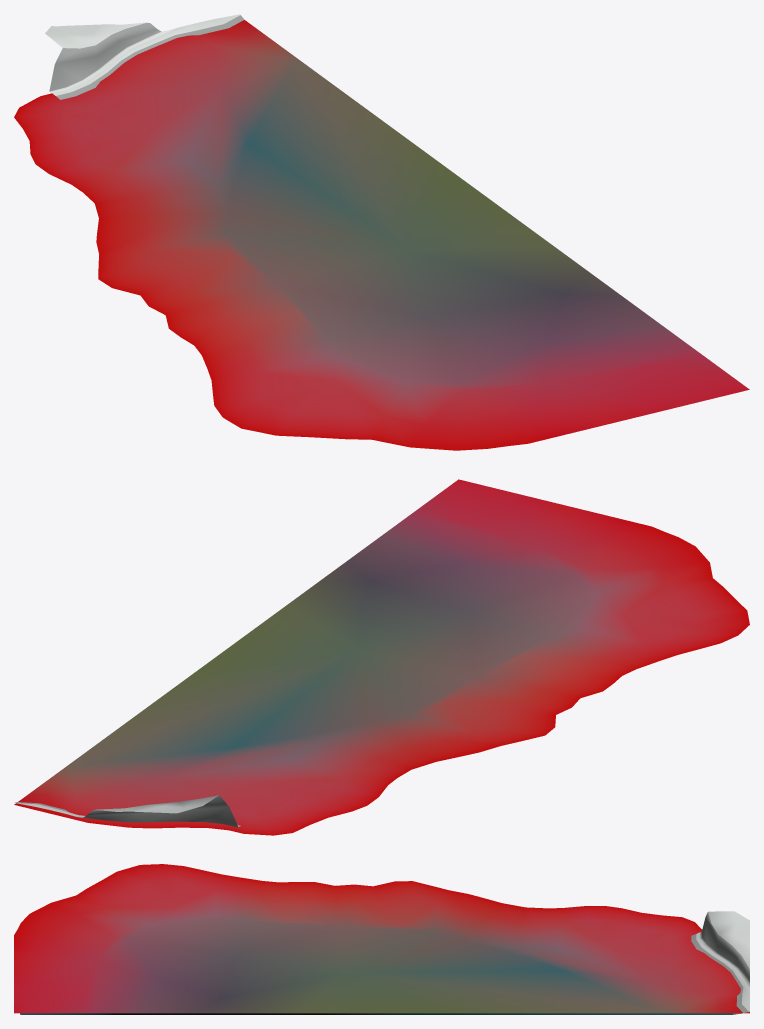
The picture shows the model from 3 angles, top to bottom: view 1: azimuth 30°, elevation 25°; view 2: azimuth 150°, elevation 25°; view 3: azimuth 270°, elevation 25°; orthographic projection. The views are drawn at different scales.
Visible parts, largest first — view 1: G:\FFXIV-MapTools\exports\r2f1\bg\ex1\01_roc_r2\fld\r2f1\bgp (×4); view 2: G:\FFXIV-MapTools\exports\r2f1\bg\ex1\01_roc_r2\fld\r2f1\bgp (×3); view 3: G:\FFXIV-MapTools\exports\r2f1\bg\ex1\01_roc_r2\fld\r2f1\bgp (×5).
Part boxes in pixels (x1,y1,x2,y2): G:\FFXIV-MapTools\exports\r2f1\bg\ex1\01_roc_r2\fld\r2f1\bgp (×4): (14,14,749,450); G:\FFXIV-MapTools\exports\r2f1\bg\ex1\01_roc_r2\fld\r2f1\bgp (×3): (14,479,749,835); G:\FFXIV-MapTools\exports\r2f1\bg\ex1\01_roc_r2\fld\r2f1\bgp (×5): (14,864,749,1014).
Bounding box in the file's own units: 61.45 × 6 × 128.
